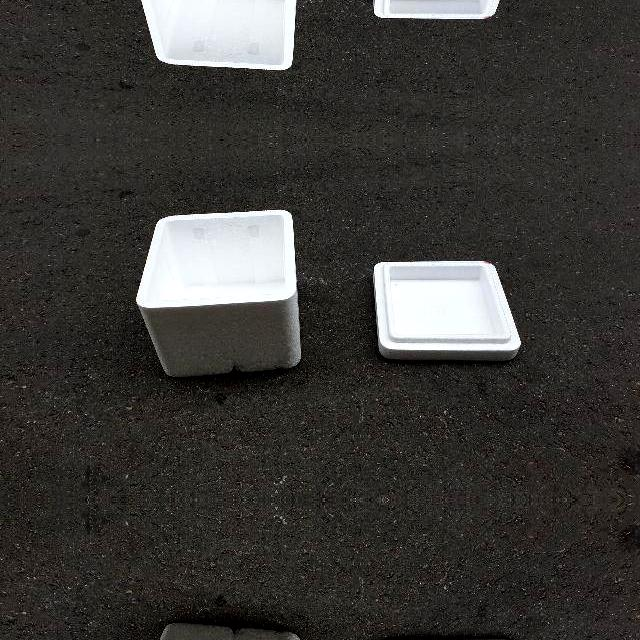Styrofoam: (138, 208, 302, 378), (136, 209, 301, 376), (374, 261, 522, 360), (375, 261, 521, 359), (137, 0, 302, 71), (140, 0, 297, 71)
